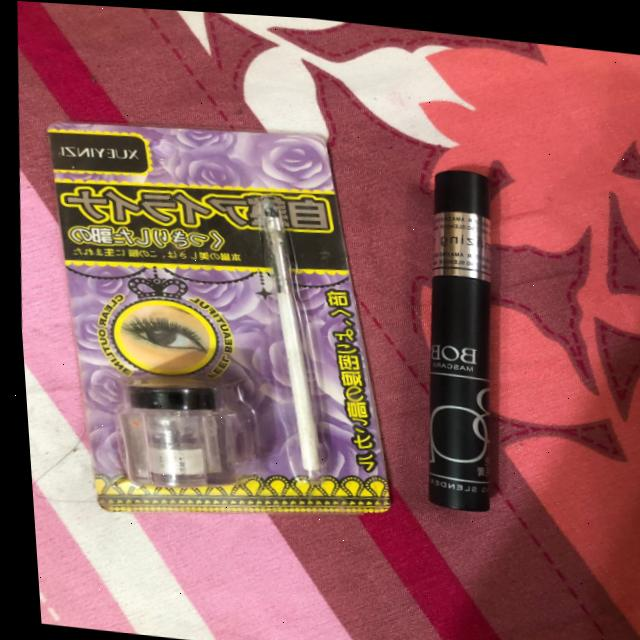mascara: (385, 142, 581, 518)
